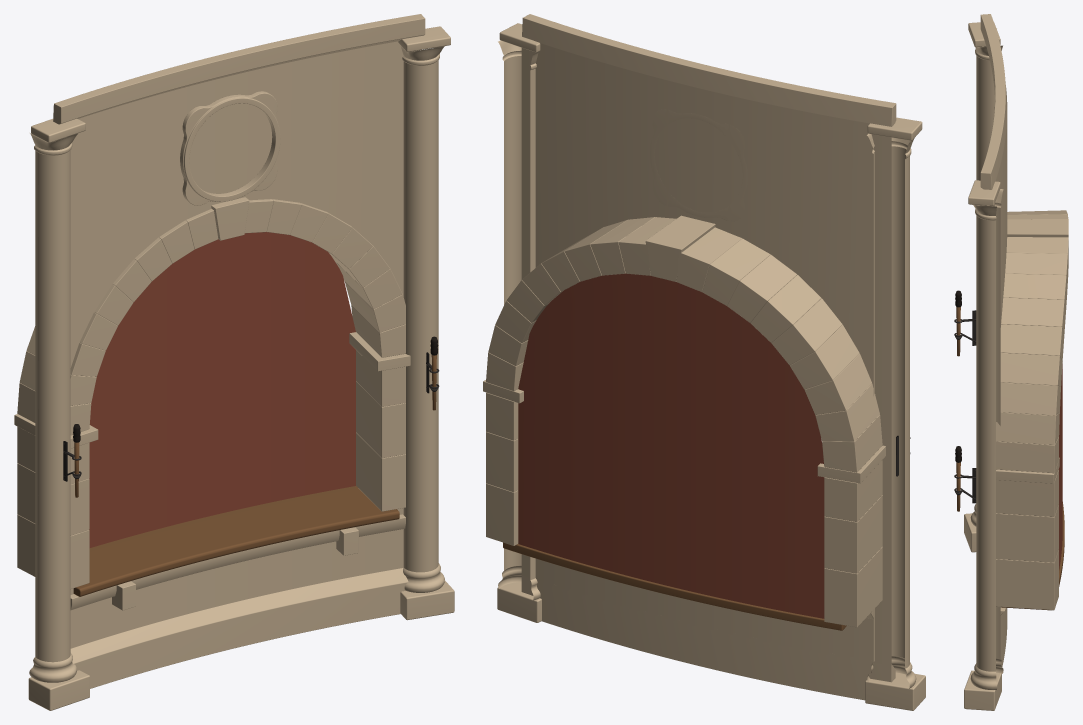
The model's file is bay0.glb.
The picture shows the model from 3 angles, left to right: view 1: azimuth 30°, elevation 25°; view 2: azimuth 150°, elevation 25°; view 3: azimuth 270°, elevation 25°; orthographic projection. The views are drawn at different scales.
Visible parts, largest first — view 1: bay0; view 2: bay0; view 3: bay0.
Part boxes in pixels (x1,y1,x2,y2): bay0: (14, 14, 454, 710); bay0: (483, 14, 925, 710); bay0: (954, 14, 1068, 710).
Size of the model in its own units: 4.22 by 5.78 by 1.14.
